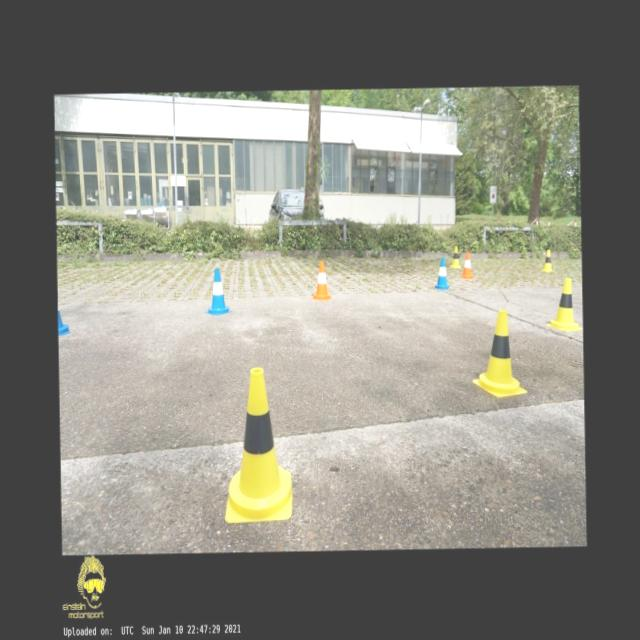blue_cone: (204, 268, 232, 315), (434, 257, 449, 289), (58, 304, 70, 336)
orange_cone: (310, 260, 331, 300), (460, 252, 473, 278)
yellow_cone: (222, 366, 292, 522), (471, 310, 527, 398), (546, 276, 582, 331), (540, 248, 554, 272), (450, 244, 461, 268)
